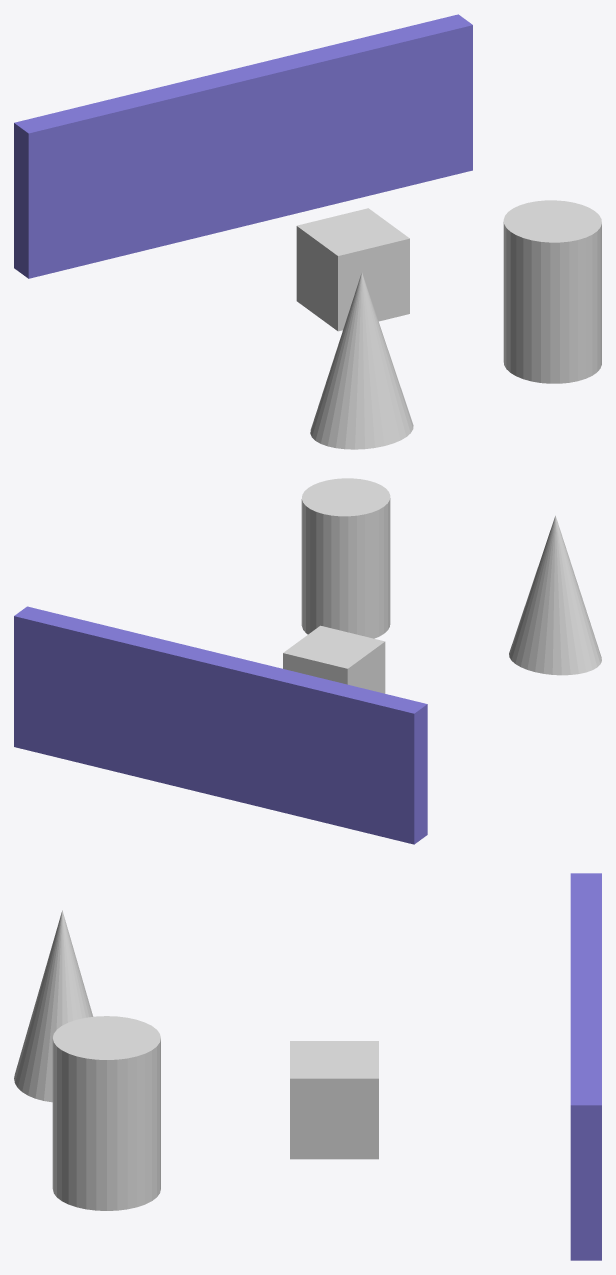
Rendered from modelo.glb.
3 views of the same model, one above another, from view 1: azimuth 30°, elevation 25°; view 2: azimuth 150°, elevation 25°; view 3: azimuth 270°, elevation 25° (orthographic). The views are drawn at different scales.
Visible parts, largest first — view 1: Cube.001, bloque3, bloque2, bloque1; view 2: Cube.001, bloque3, bloque1, bloque2; view 3: bloque3, Cube.001, bloque2, bloque1.
Part boxes in pixels (x1,y1,x2,y2): Cube.001: (14, 14, 472, 278); bloque3: (503, 200, 601, 383); bloque2: (296, 208, 409, 331); bloque1: (310, 272, 413, 449); Cube.001: (14, 606, 427, 844); bloque3: (301, 478, 390, 638); bloque1: (509, 515, 601, 675); bloque2: (283, 625, 385, 693); bloque3: (52, 1016, 160, 1210); Cube.001: (570, 873, 601, 1260); bloque2: (290, 1041, 378, 1159); bloque1: (14, 910, 93, 1102).
Bounding box in the file's own units: 12.35 × 4.19 × 13.23.
